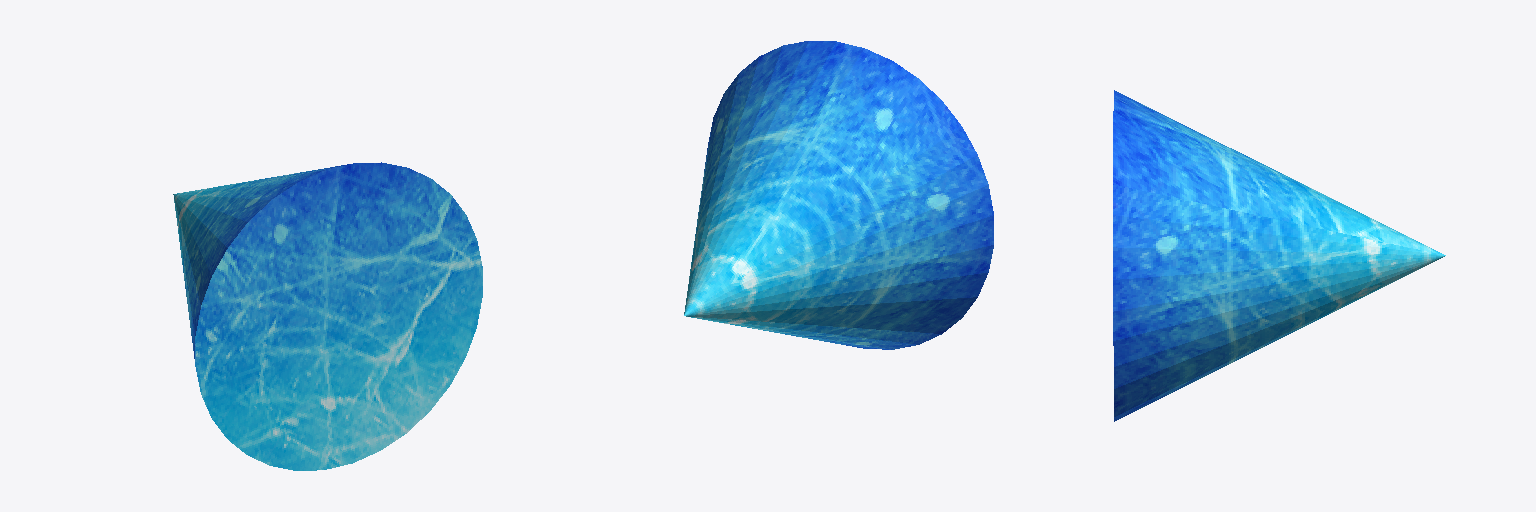
The picture shows the model from 3 angles: view 1: azimuth 30°, elevation 25°; view 2: azimuth 150°, elevation 25°; view 3: azimuth 270°, elevation 25°; orthographic projection.
Visible parts, largest first — view 1: Cone; view 2: Cone; view 3: Cone.
Part boxes in pixels (bbox=[...]): Cone: bbox=[173, 162, 482, 470]; Cone: bbox=[684, 41, 993, 349]; Cone: bbox=[1113, 90, 1445, 421].
Size of the model in its own units: 1.99 by 1.99 by 2.
1 materials, 1 textured.